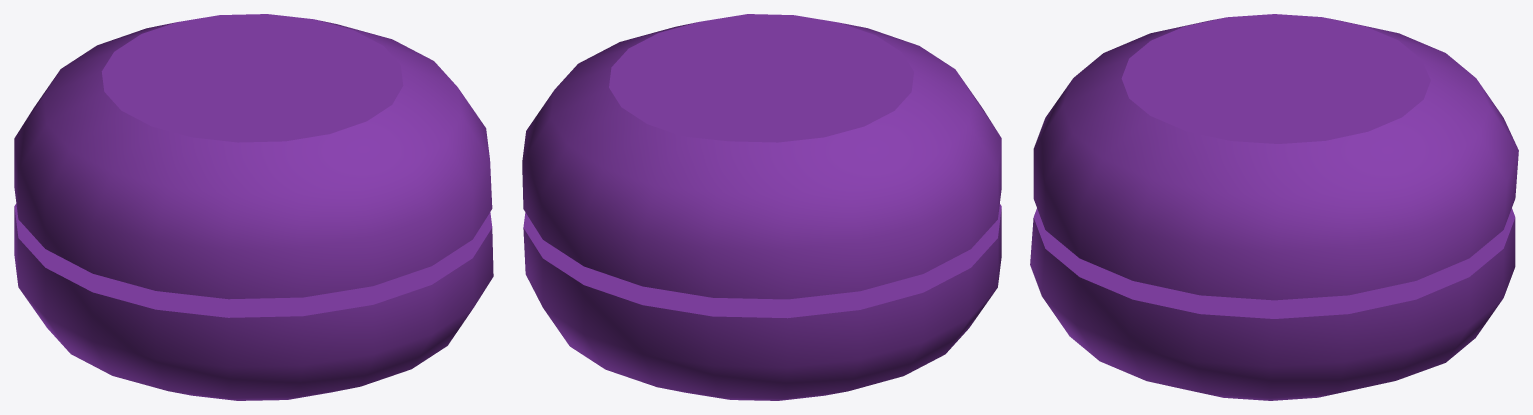
Rendered from Horror_Yoyo.fbx.
The picture shows the model from 3 angles, left to right: view 1: azimuth 30°, elevation 25°; view 2: azimuth 150°, elevation 25°; view 3: azimuth 270°, elevation 25°; orthographic projection.
Visible parts, largest first — view 1: pCylinder60; view 2: pCylinder60; view 3: pCylinder60.
Boxes of the visible parts, box(x1,y1,x2,y2) form: pCylinder60: box(14, 14, 493, 400); pCylinder60: box(522, 14, 1001, 400); pCylinder60: box(1030, 14, 1518, 400).
Bounding box in the file's own units: 11.66 × 6.93 × 11.83.
